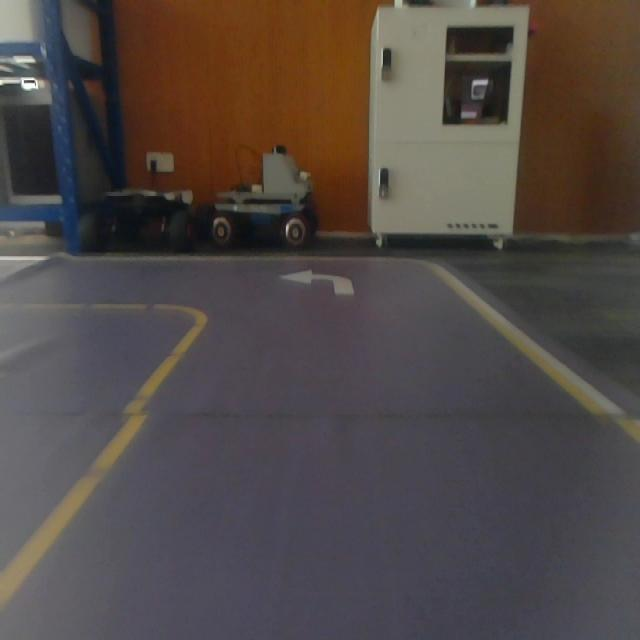left_lane: (0, 318, 210, 620)
right_lane: (424, 263, 640, 451)
